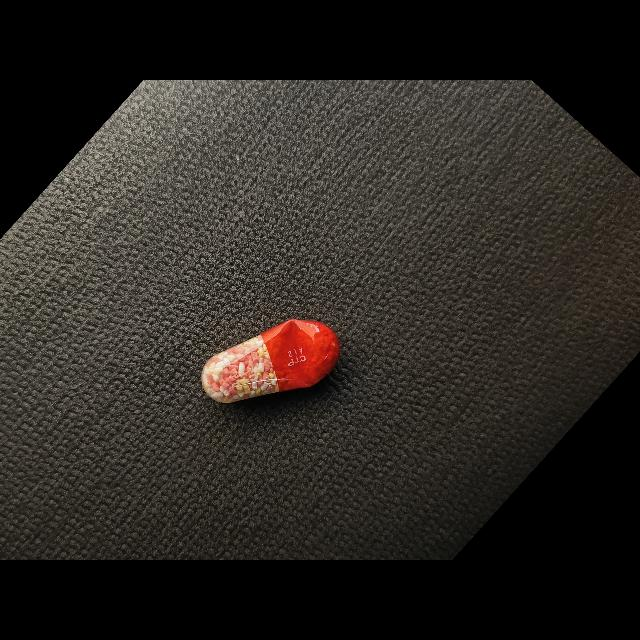Defective Capsule: (201, 319, 340, 403)
